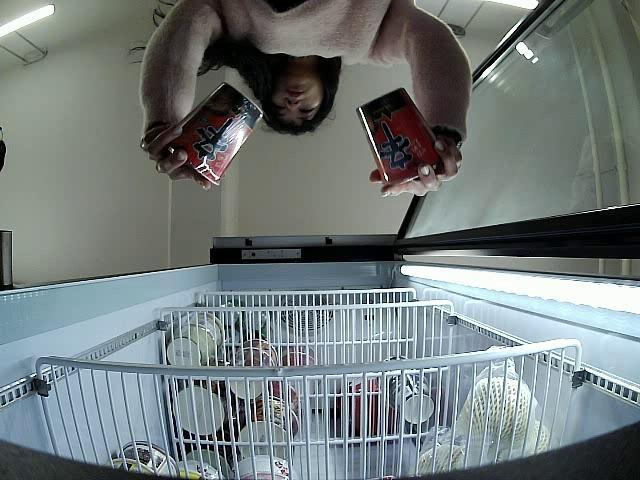02_shinRamen_S: (176, 84, 262, 183), (360, 88, 445, 183)
